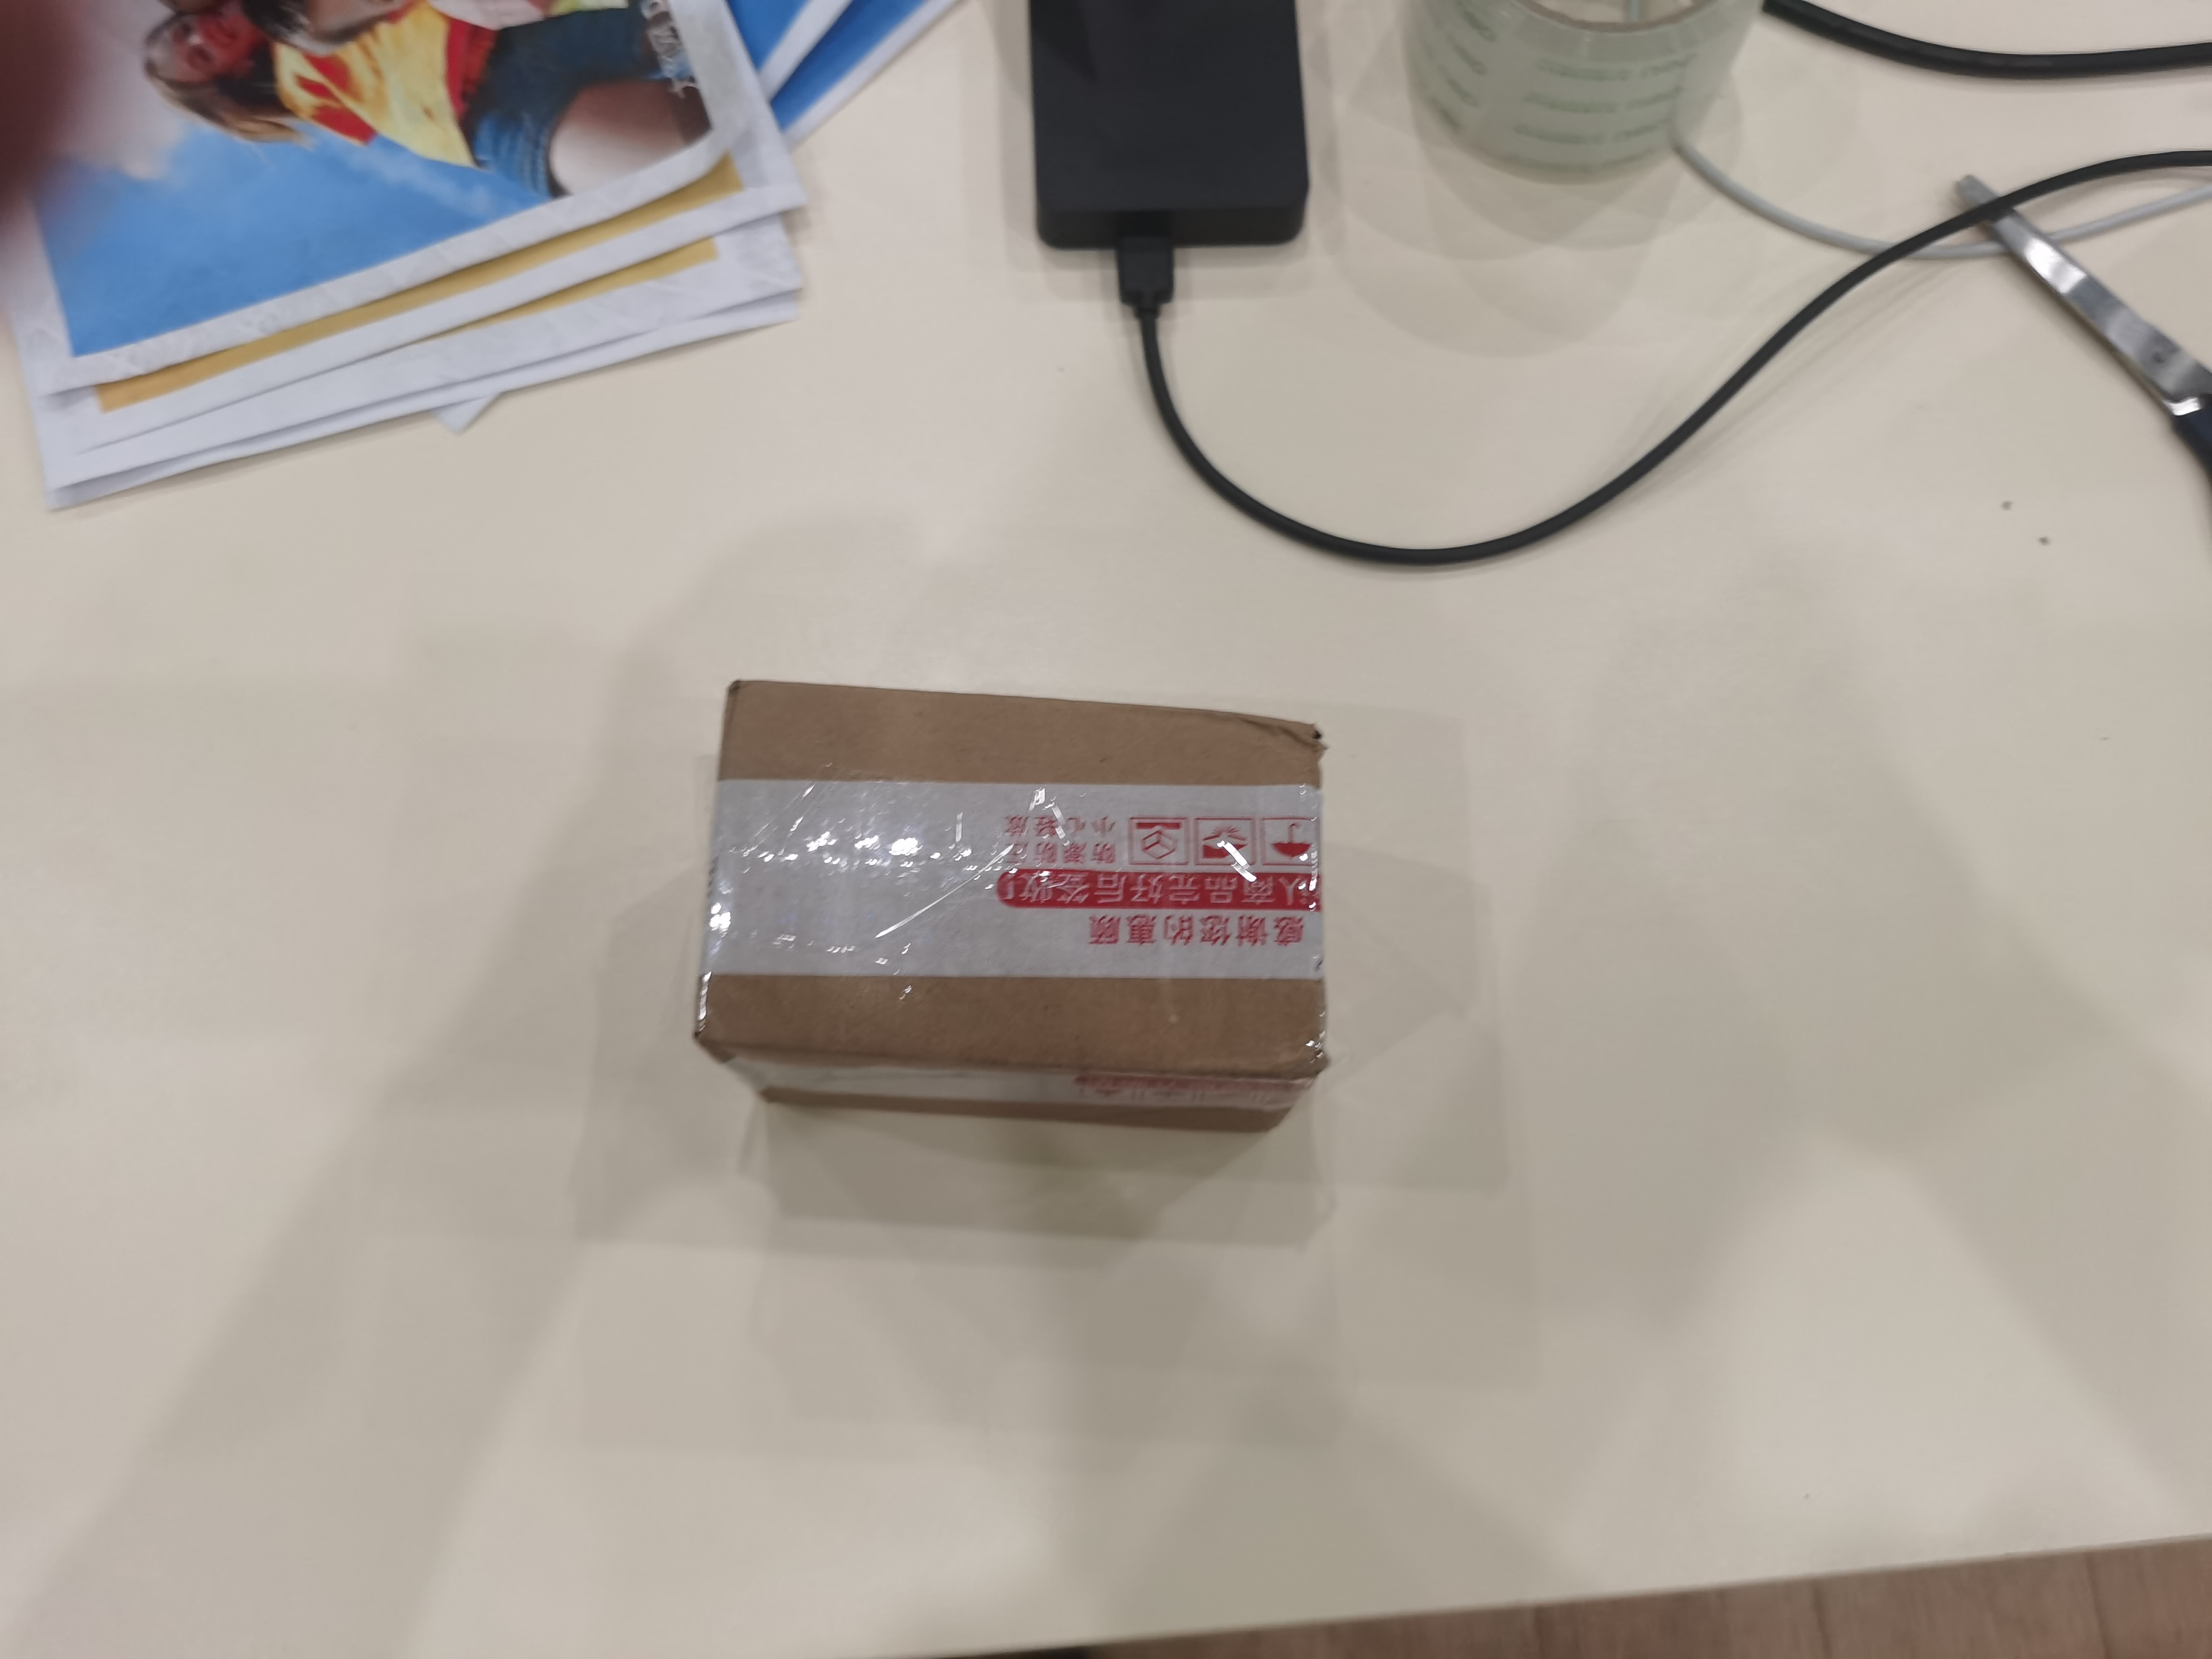box: (662, 641, 1353, 1136)
